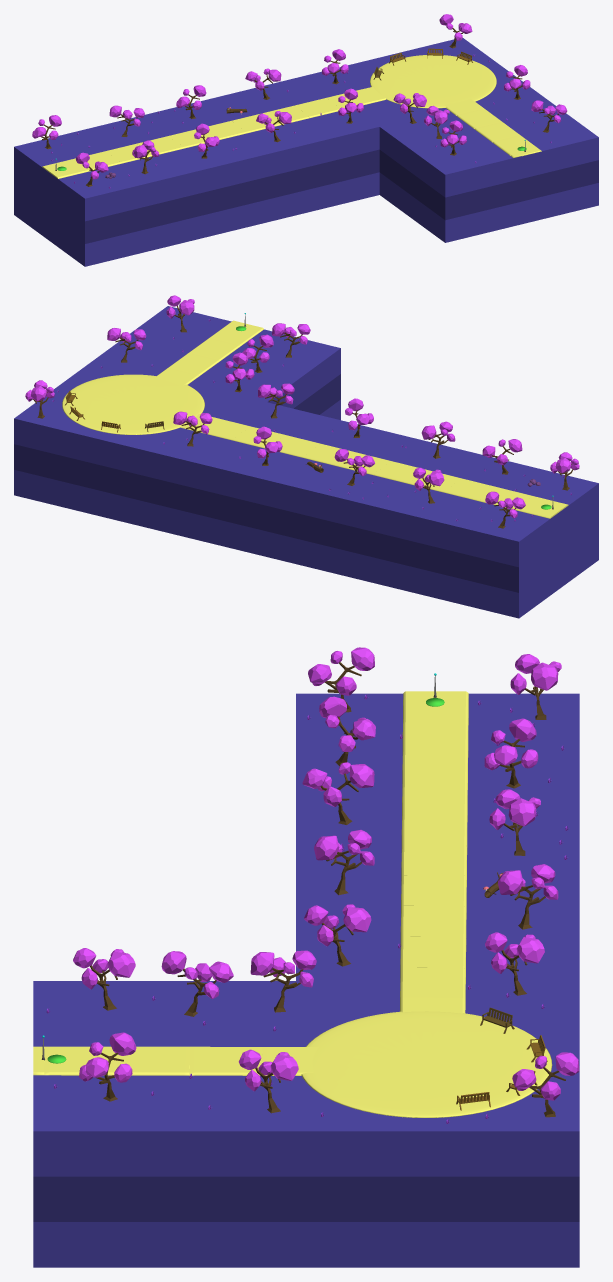
The model's file is lvl1-3.fbx.
3 renders of one model, top to bottom at view 1: azimuth 30°, elevation 25°; view 2: azimuth 150°, elevation 25°; view 3: azimuth 270°, elevation 25°, orthographic. The views are drawn at different scales.
Visible parts, largest first — view 1: Cube.002, Cylinder, Cube.003, Cube.004; view 2: Cube.002, Cylinder, Cube.003, Cube.004; view 3: Cube.002, Cube.003, Cylinder, Cube.004.
Boxes of the visible parts, x1,y1,x2,y2 form: Cube.002: (14,14,598,266); Cylinder: (370,55,496,108); Cube.003: (42,87,386,178); Cube.004: (444,99,541,157); Cube.002: (14,295,598,618); Cylinder: (62,374,204,434); Cube.003: (181,414,568,518); Cube.004: (154,320,263,386); Cube.002: (33,647,579,1267); Cube.003: (400,691,468,1013); Cylinder: (301,1011,552,1117); Cube.004: (33,1046,318,1075).
Bounding box in the file's own units: 11180 × 2332 × 5901.
